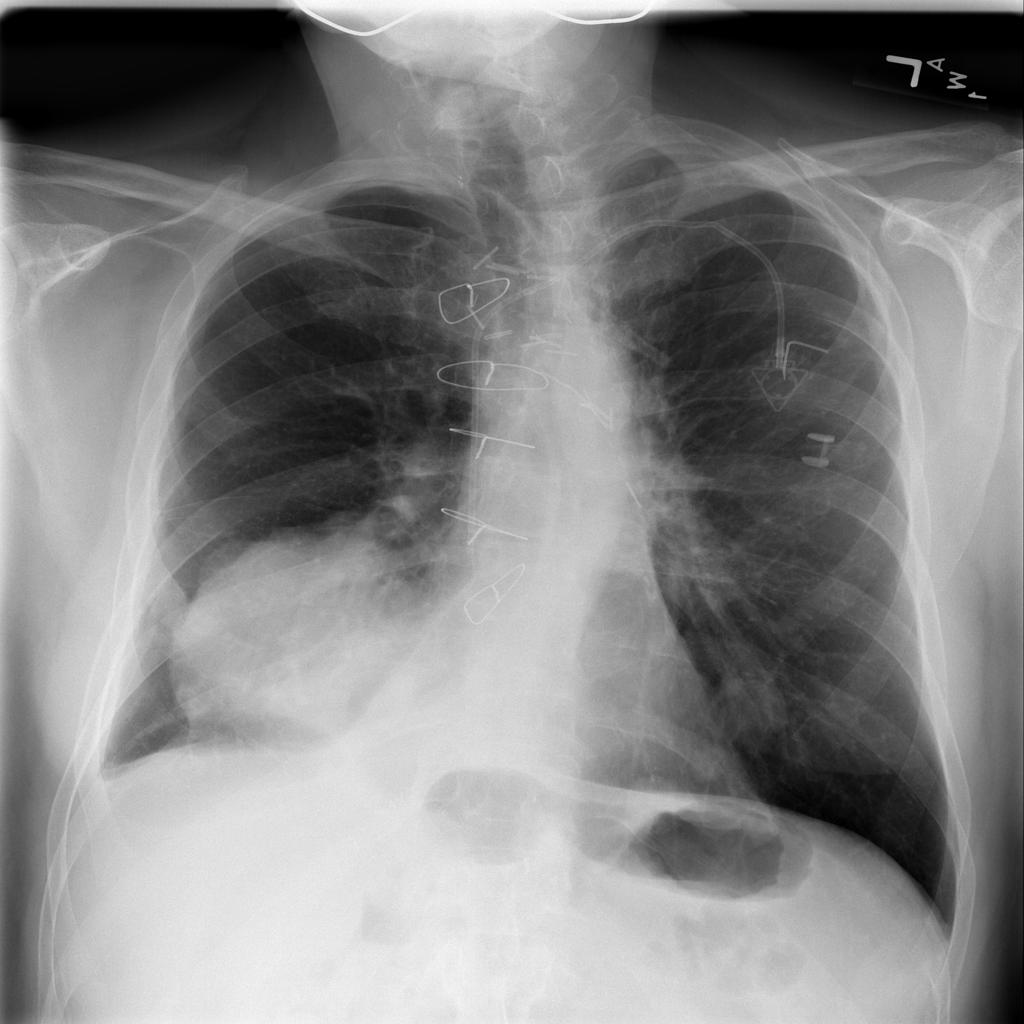nodule: (140, 496, 470, 781), (705, 670, 795, 753), (672, 730, 749, 800)
